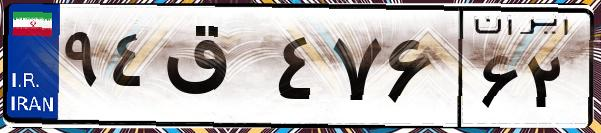2: (525, 38, 570, 115)
4: (270, 28, 330, 110), (110, 28, 158, 98)
6: (385, 28, 445, 110), (475, 38, 525, 113)
7: (330, 28, 385, 110)
9: (57, 26, 110, 100)
ق: (158, 20, 270, 120)
